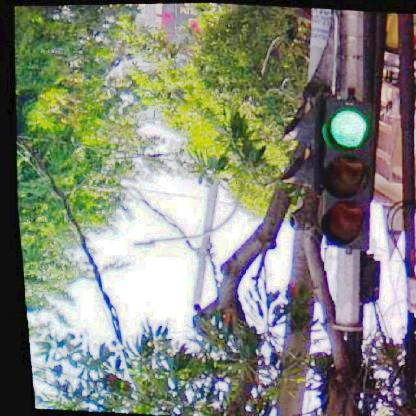Traffic Light -Green-: (310, 97, 378, 251)
